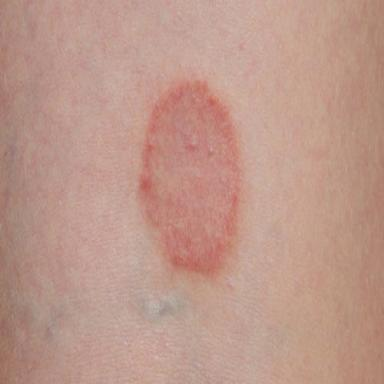Tinea-Corporis: (139, 82, 239, 273)
